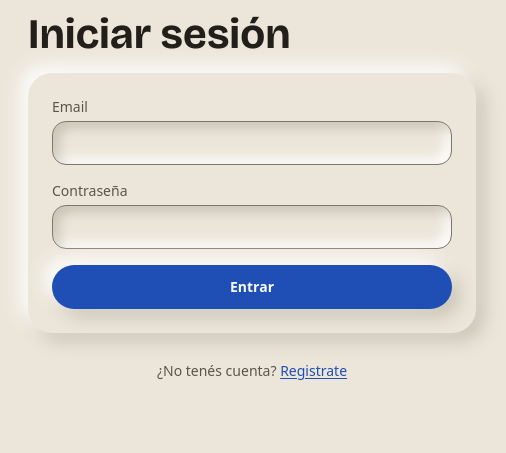
Test: LoginPage › despliega el error por campo ante un 422
Type "ada@example.com" into the field labelled "Email" at (252, 143), box [52,121,452,165]
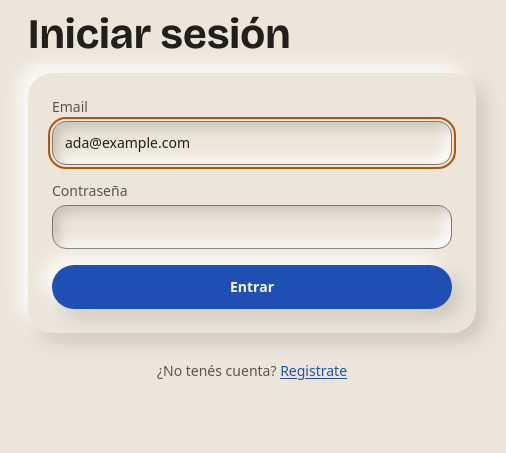
Type "s3cret" into the password field labelled "Contraseña" at (252, 227), box [52,205,452,249]
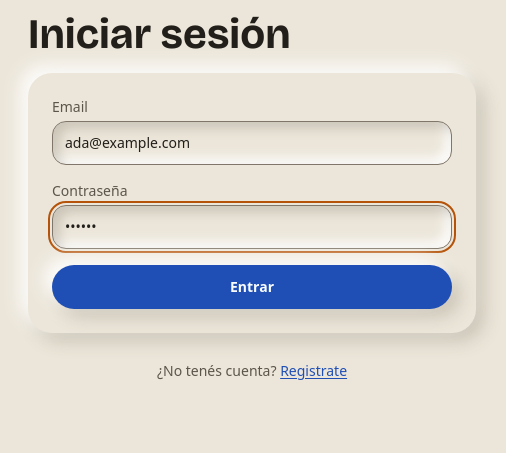
Click the button "Entrar" at (252, 287), box [52,265,452,309]
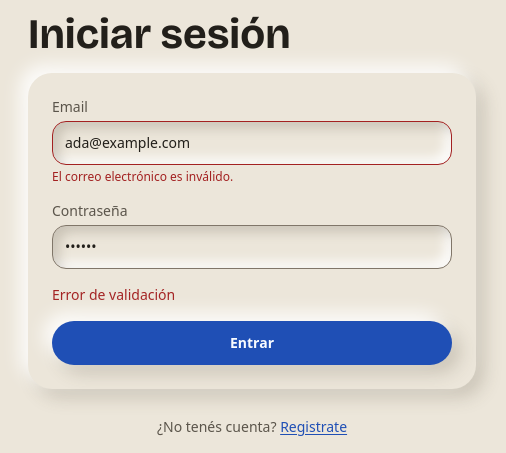
Now the text "El correo electrónico es inválido." is shown, box [52,168,233,185]
